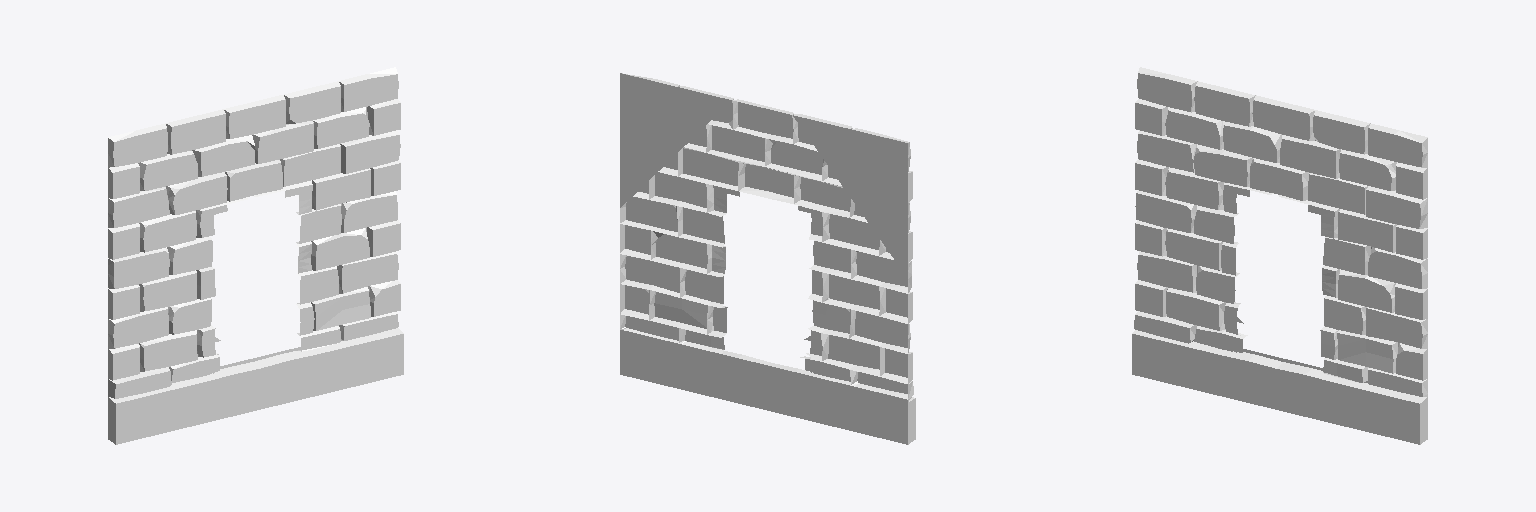
The model's file is WallWithDoorHole.obj.
The picture shows the model from 3 angles: view 1: azimuth 30°, elevation 25°; view 2: azimuth 150°, elevation 25°; view 3: azimuth 330°, elevation 25°; orthographic projection.
Parts seen in each view (by area): view 1: WallWithDoorHole; view 2: WallWithDoorHole; view 3: WallWithDoorHole.
Part boxes in pixels (left/top/right/bottom): WallWithDoorHole: left=108, top=67, right=403, bottom=444; WallWithDoorHole: left=620, top=73, right=915, bottom=444; WallWithDoorHole: left=1132, top=67, right=1427, bottom=444.
Bounding box in the file's own units: 4 × 4 × 0.194.